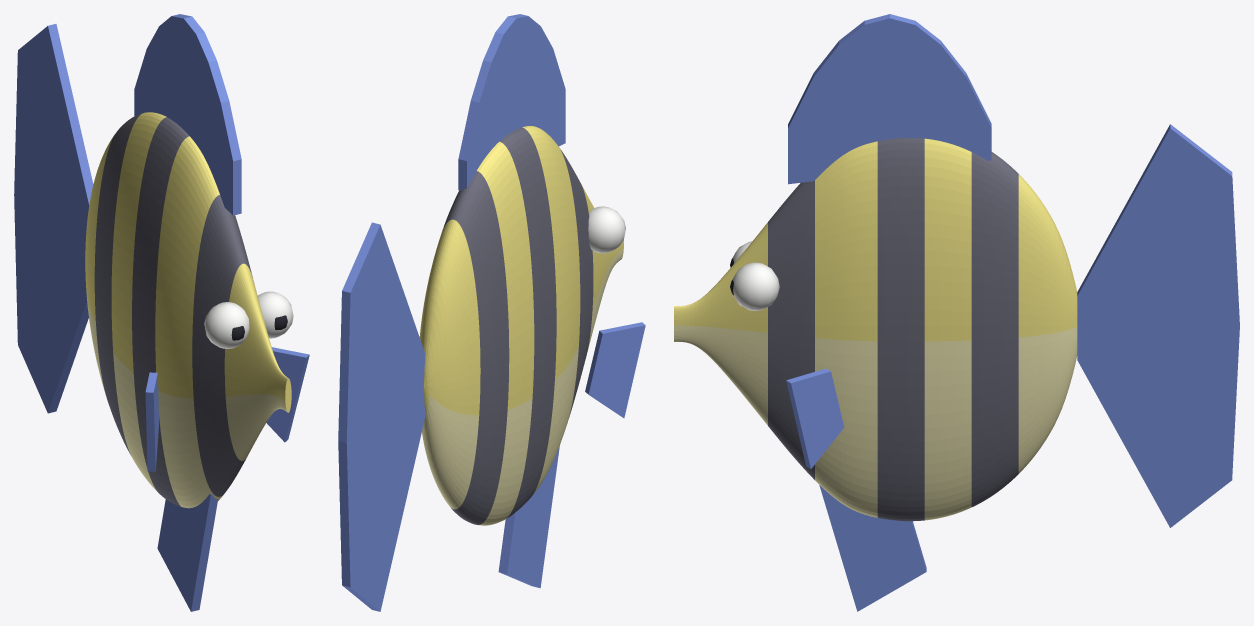
File: fish_angel.glb
The picture shows the model from 3 angles, left to right: view 1: azimuth 30°, elevation 25°; view 2: azimuth 150°, elevation 25°; view 3: azimuth 270°, elevation 25°; orthographic projection. The views are drawn at different scales.
Parts seen in each view (by area): view 1: Body, Tail; view 2: Body, Tail; view 3: Body, Tail.
Boxes of the visible parts, left/top/right/bottom form: Body: left=85, top=14, right=309, bottom=611; Tail: left=14, top=24, right=93, bottom=413; Body: left=419, top=14, right=645, bottom=588; Tail: left=338, top=222, right=425, bottom=611; Body: left=674, top=14, right=1077, bottom=611; Tail: left=1077, top=124, right=1239, bottom=527.
Size of the model in its own units: 0.1137 by 0.3887 by 0.3334.
